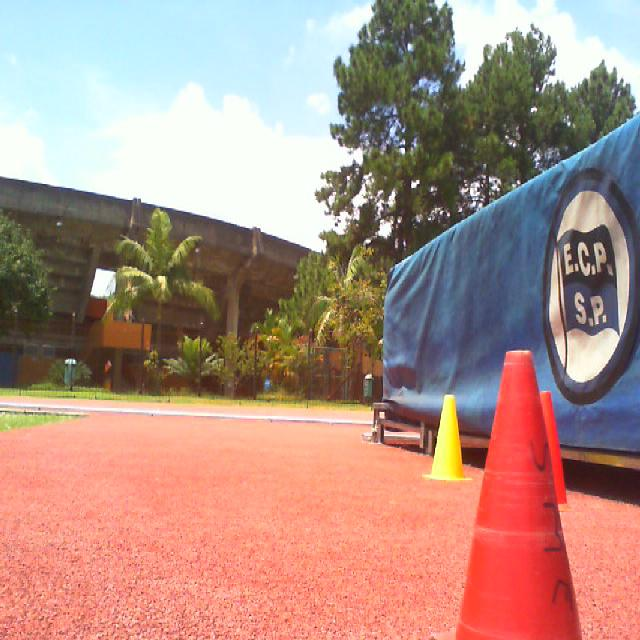cone: (432, 349, 584, 640), (422, 395, 473, 481), (539, 389, 574, 512)
